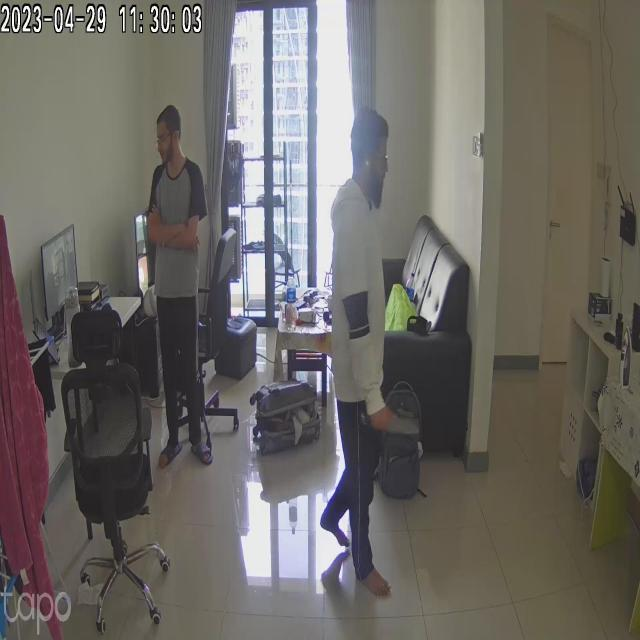Knife: (364, 403, 428, 447)
